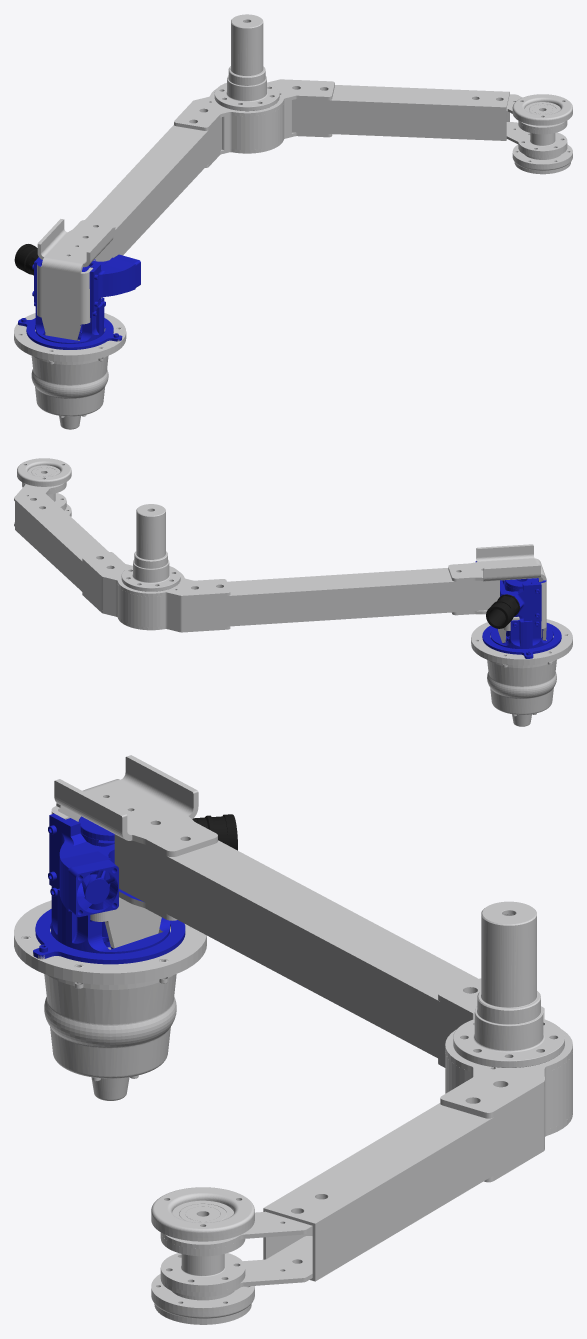
The model's file is zawieszenie_lewo.dae.
3 renders of one model, top to bottom at view 1: azimuth 30°, elevation 25°; view 2: azimuth 150°, elevation 25°; view 3: azimuth 270°, elevation 25°, orthographic. The views are drawn at different scales.
Visible parts, largest first — view 1: Zawieszenie Lewo; view 2: Zawieszenie Lewo; view 3: Zawieszenie Lewo.
Part boxes in pixels (<box>): Zawieszenie Lewo: <box>14,14,572,429</box>; Zawieszenie Lewo: <box>14,458,572,726</box>; Zawieszenie Lewo: <box>14,755,572,1324</box>.
Bounding box in the file's own units: 0.7146 × 0.3501 × 0.2959.
